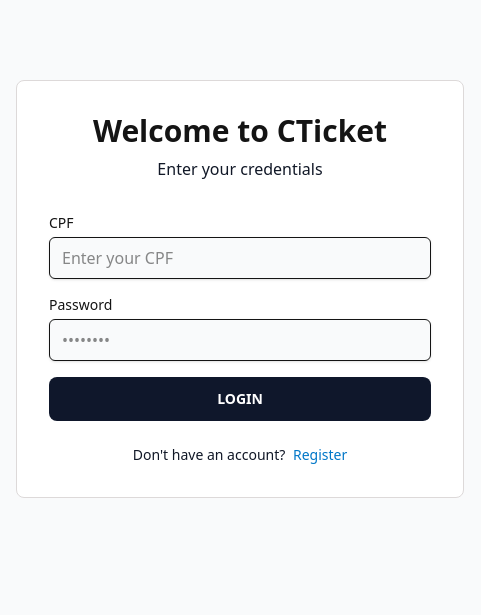
Test: Login.vue › should switch to register form when clicking register link
Click the button "Register".
click(320, 455)  # box 293,445 -> 347,465
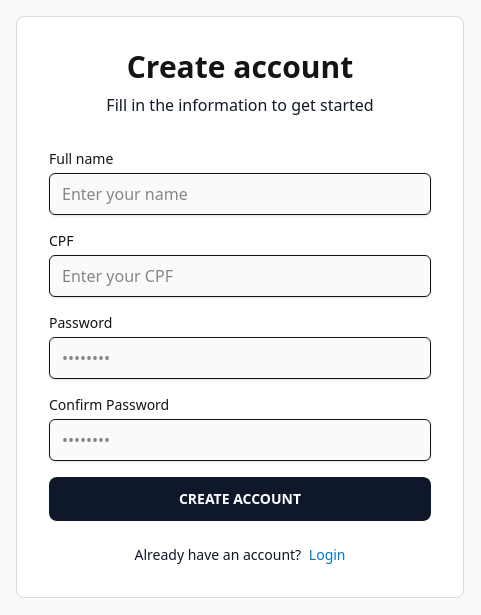
Expected: the text "Create account" is shown, 127,46 -> 353,87
Expected: the text "Fill in the information to get started" is shown, 106,94 -> 374,116
Expected: the field named "name" is shown, 49,173 -> 431,215
